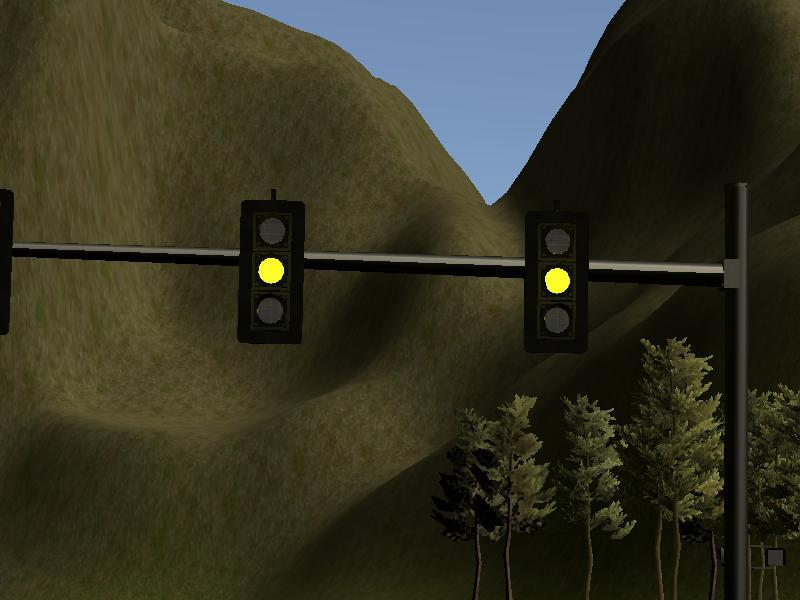Yellow: (525, 214, 589, 354), (241, 202, 302, 341)
